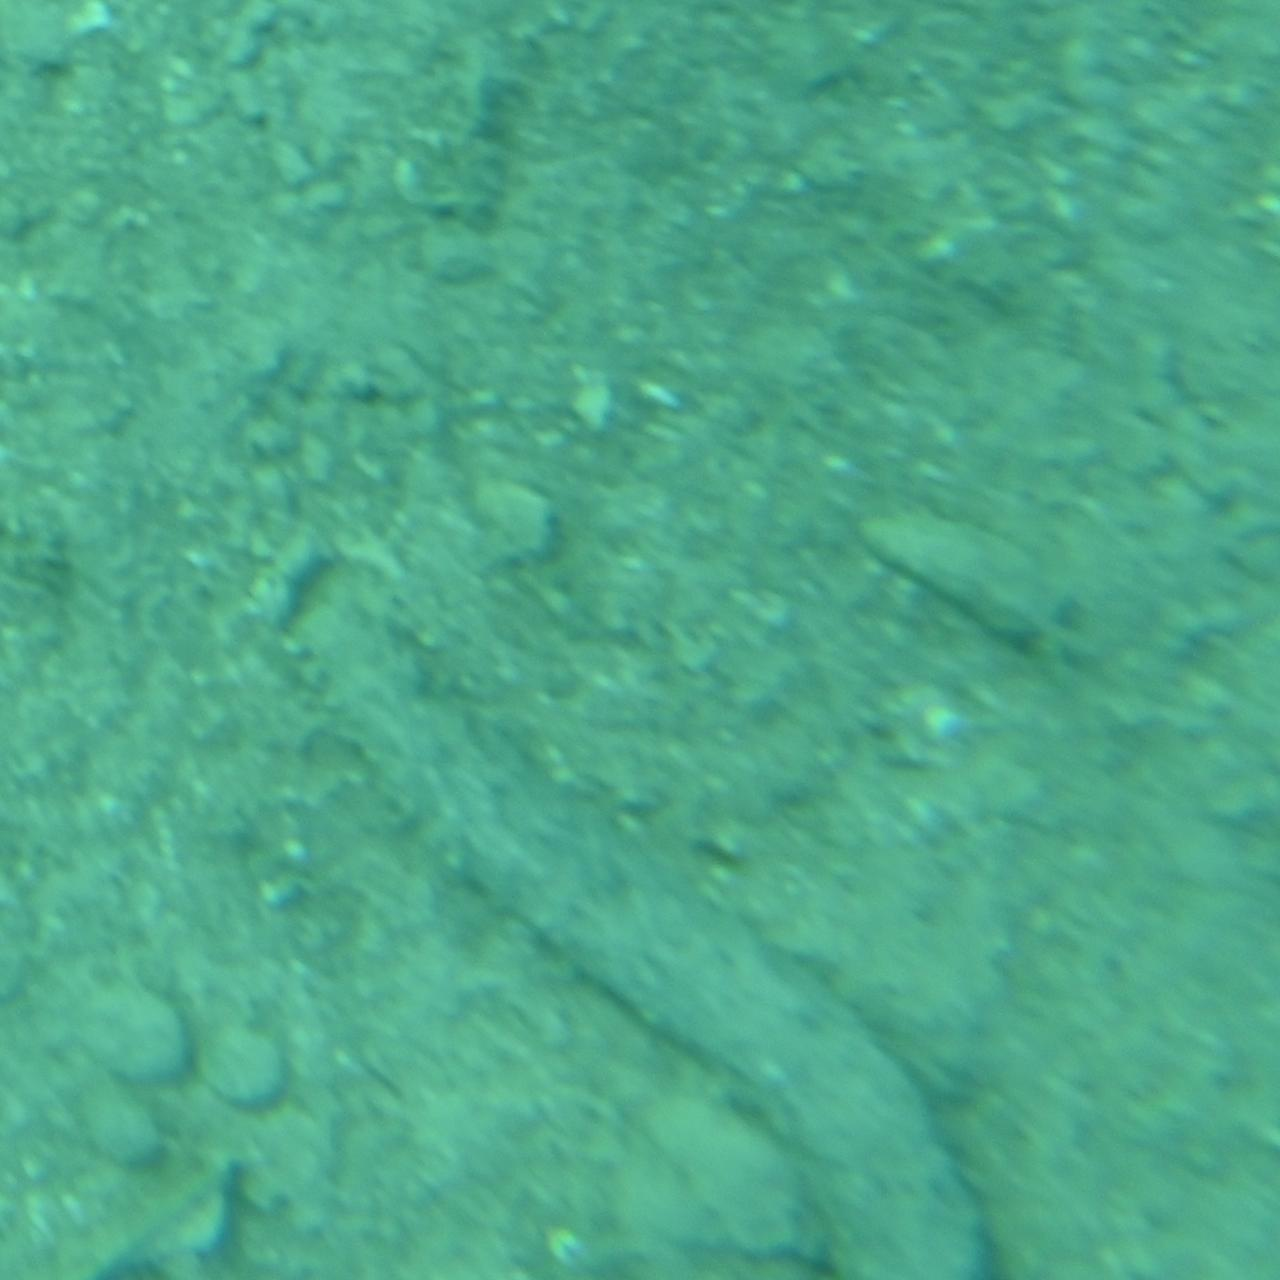Holothuria tubulosa: (262, 583, 1018, 1280)
